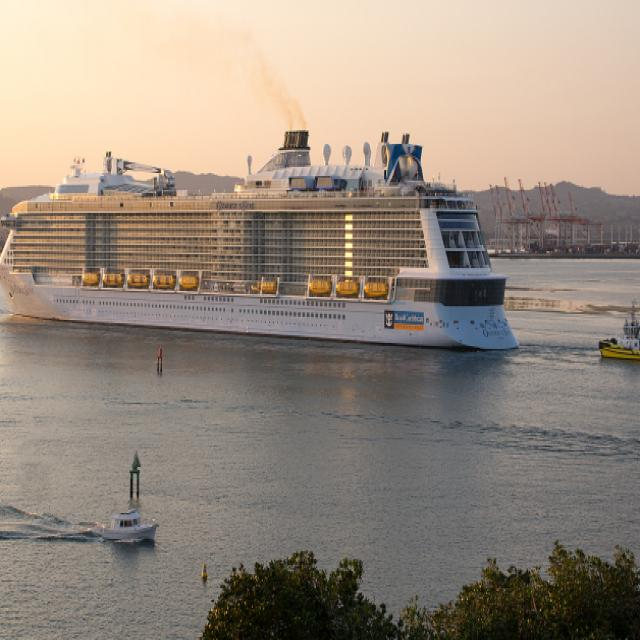cruises: (1, 124, 524, 366)
